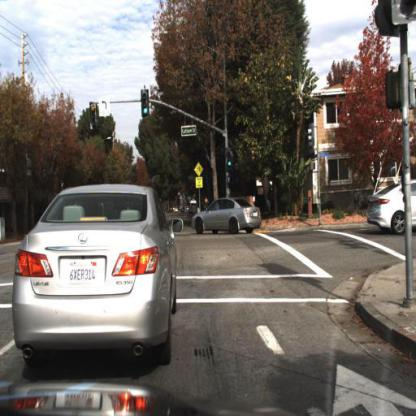car: (11, 185, 179, 365), (190, 196, 265, 237), (367, 178, 416, 239)
trafficLight: (142, 92, 152, 126)
trafficLight-Green: (225, 151, 235, 178)
trafficLight-RedLeft: (88, 106, 99, 140)
